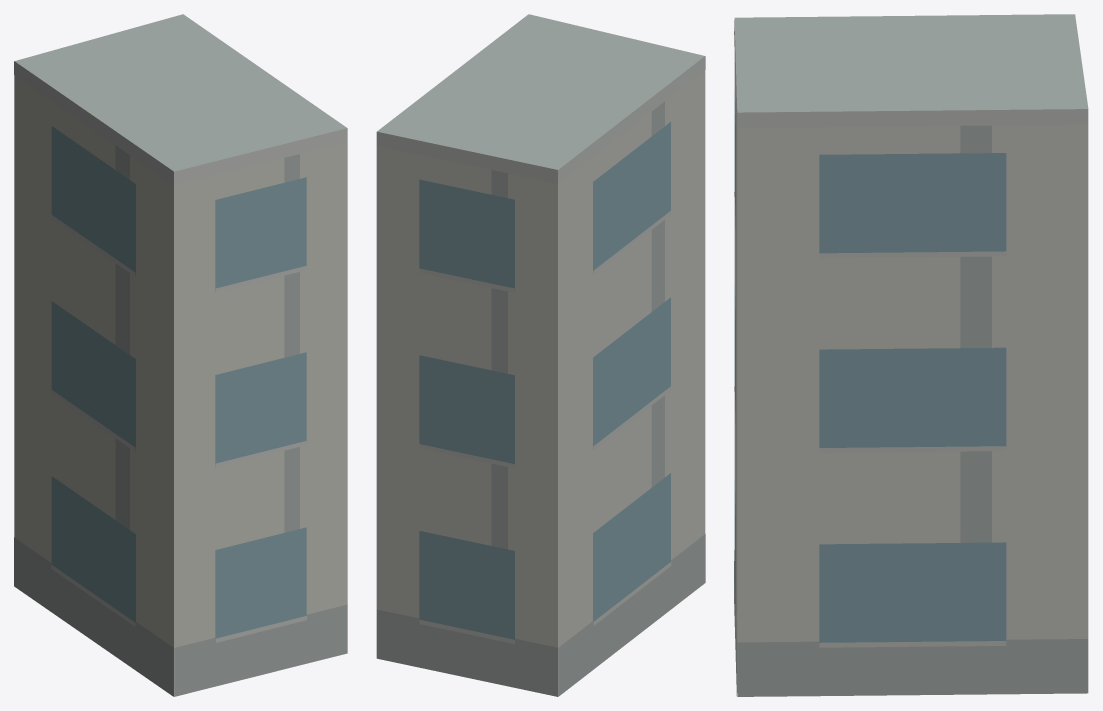
File: survey-upis-32634308.glb
The picture shows the model from 3 angles, left to right: view 1: azimuth 30°, elevation 25°; view 2: azimuth 150°, elevation 25°; view 3: azimuth 270°, elevation 25°; orthographic projection. The views are drawn at different scales.
Visible parts, largest first — view 1: survey-upis-32634308.tmp; view 2: survey-upis-32634308.tmp; view 3: survey-upis-32634308.tmp.
Part boxes in pixels (x1,y1,x2,y2): survey-upis-32634308.tmp: (14,14,347,696); survey-upis-32634308.tmp: (376,14,705,696); survey-upis-32634308.tmp: (734,14,1088,696).
Bounding box in the file's own units: 3.32 × 9.15 × 5.04.
